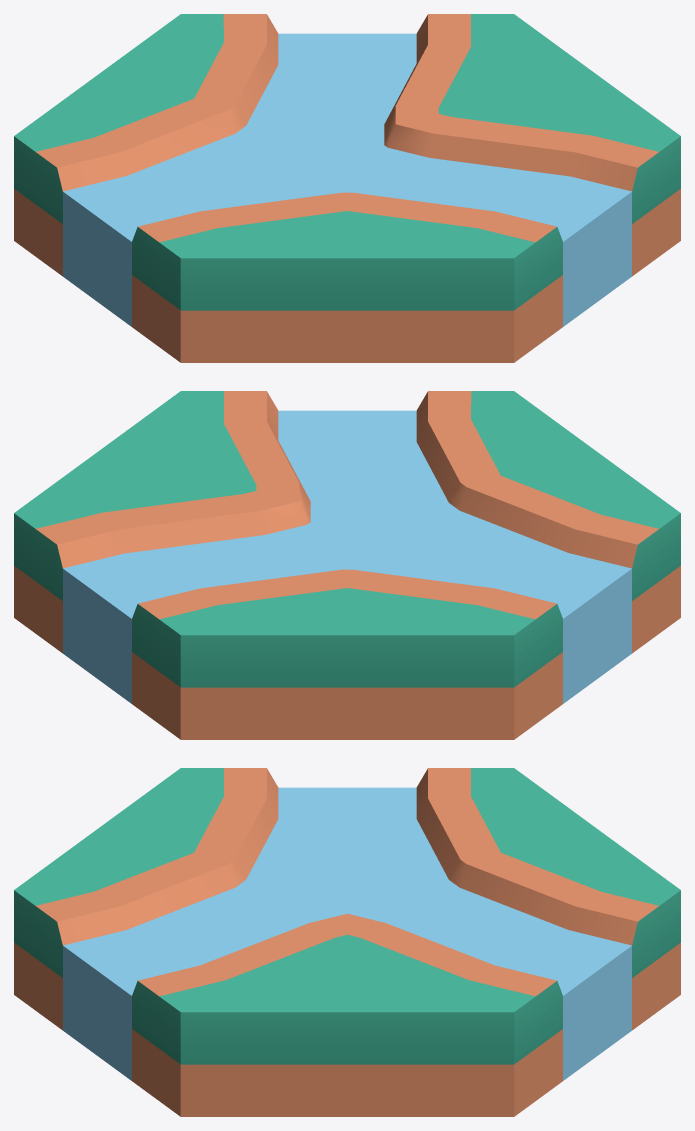
File: kenney-hexagon-river-intersectionf.glb
3 renders of one model, top to bottom at view 1: azimuth 30°, elevation 25°; view 2: azimuth 150°, elevation 25°; view 3: azimuth 270°, elevation 25°, orthographic.
Parts seen in each view (by area): view 1: river_intersectionF; view 2: river_intersectionF; view 3: river_intersectionF.
Part boxes in pixels (x1,y1,x2,y2): river_intersectionF: [14, 14, 680, 362]; river_intersectionF: [14, 391, 680, 739]; river_intersectionF: [14, 768, 680, 1116].
Size of the model in its own units: 1 by 0.2 by 1.15.
1 material, 1 textured.
